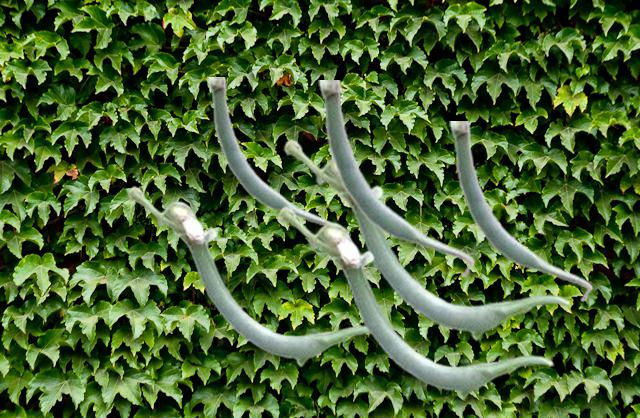french_bean: (283, 138, 570, 340), (278, 205, 553, 399), (127, 185, 372, 366), (318, 80, 474, 278), (449, 121, 592, 302), (207, 77, 333, 226)
